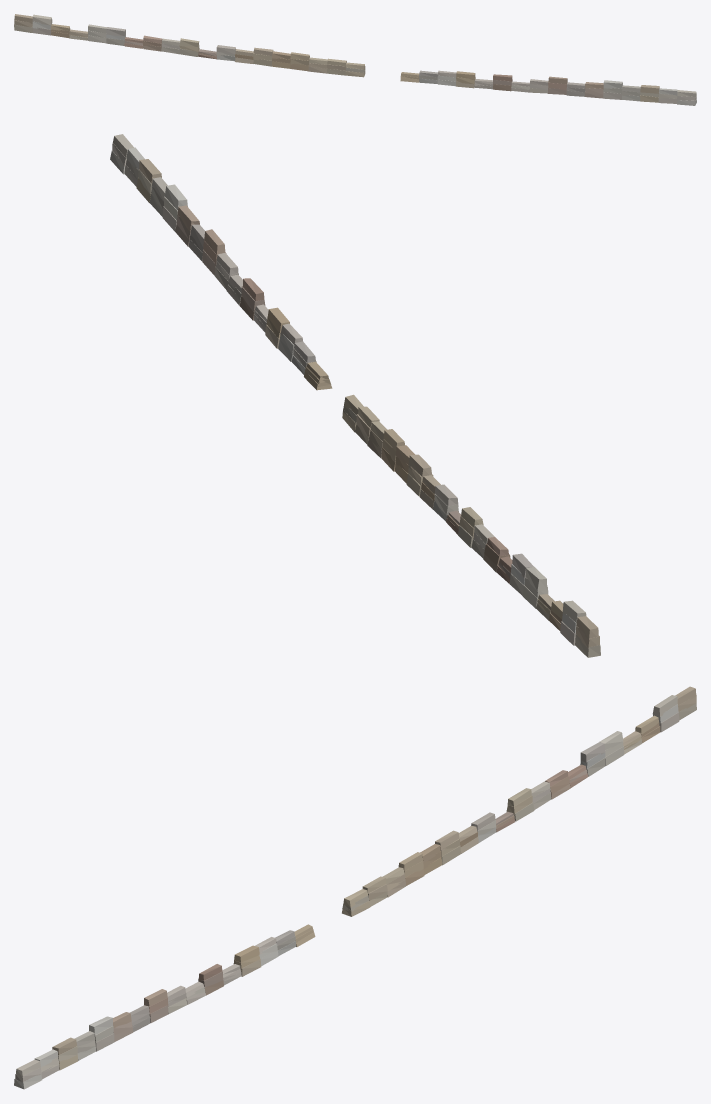
Rendered from farm_-33_-26_mid.glb.
3 renders of one model, top to bottom at view 1: azimuth 30°, elevation 25°; view 2: azimuth 150°, elevation 25°; view 3: azimuth 270°, elevation 25°, orthographic. The views are drawn at different scales.
Parts seen in each view (by area): view 1: geometry_0; view 2: geometry_0; view 3: geometry_0.
Part boxes in pixels (x1,y1,x2,y2): geometry_0: (14,14,696,105); geometry_0: (110,134,600,657); geometry_0: (14,686,696,1089).
Size of the model in its own units: 45.8 by 3.76 by 38.41.
